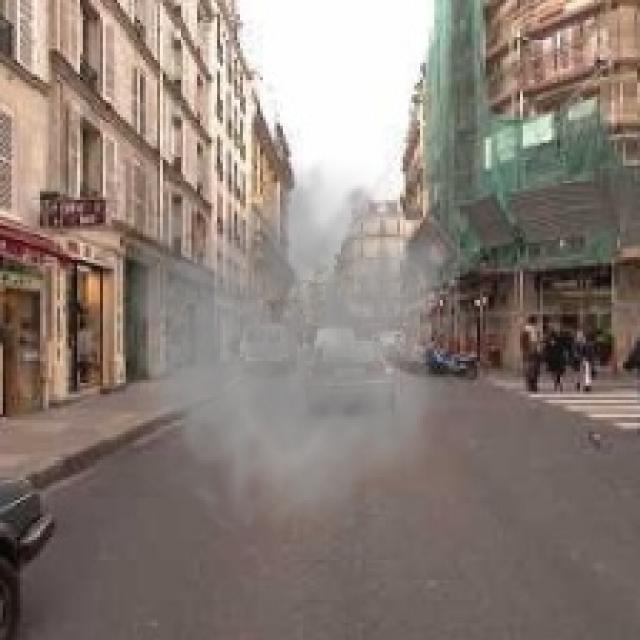Smoke: (97, 154, 460, 543)
